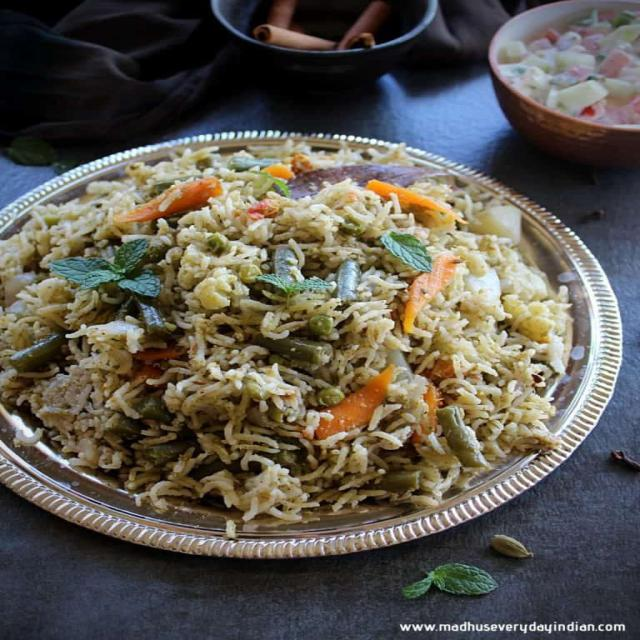veg palav: (11, 132, 602, 546)
